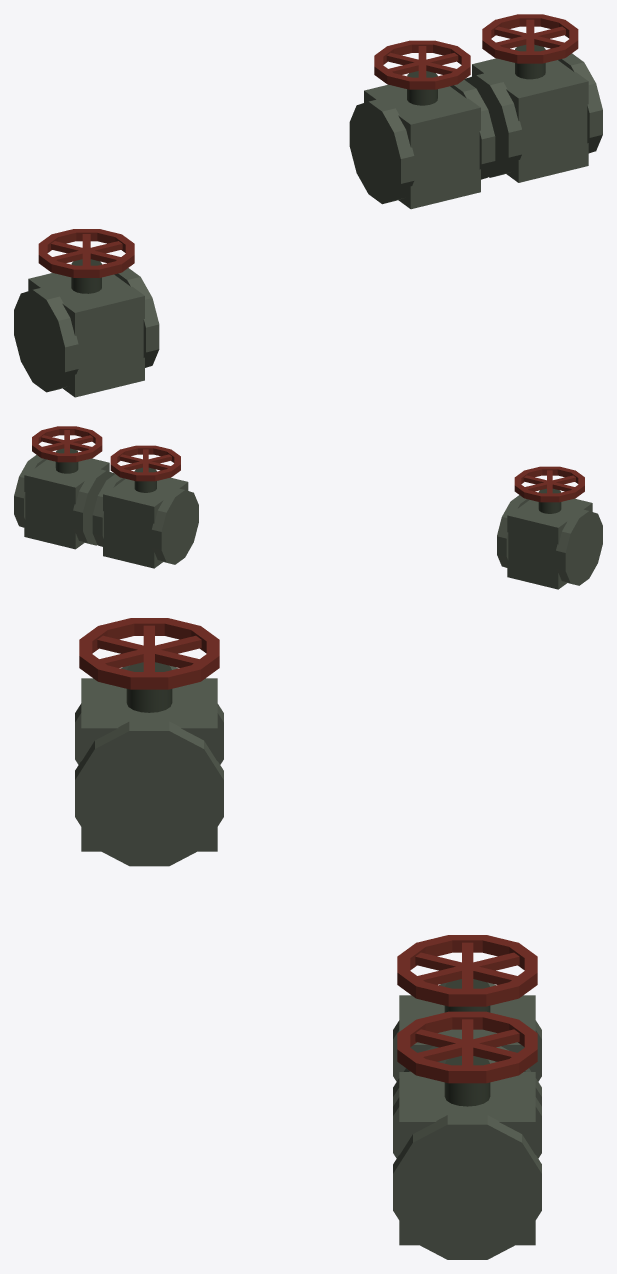
The model's file is ko600_valves.obj.
The picture shows the model from 3 angles, top to bottom: view 1: azimuth 30°, elevation 25°; view 2: azimuth 150°, elevation 25°; view 3: azimuth 270°, elevation 25°; orthographic projection. The views are drawn at different scales.
Parts seen in each view (by area): view 1: ko600_valves; view 2: ko600_valves; view 3: ko600_valves.
Part boxes in pixels (box(x1,y1,x2,y2)): ko600_valves: box(14, 14, 602, 397); ko600_valves: box(14, 426, 602, 589); ko600_valves: box(75, 618, 541, 1259).
Bounding box in the file's own units: 2.4 × 0.4492 × 1.03.
